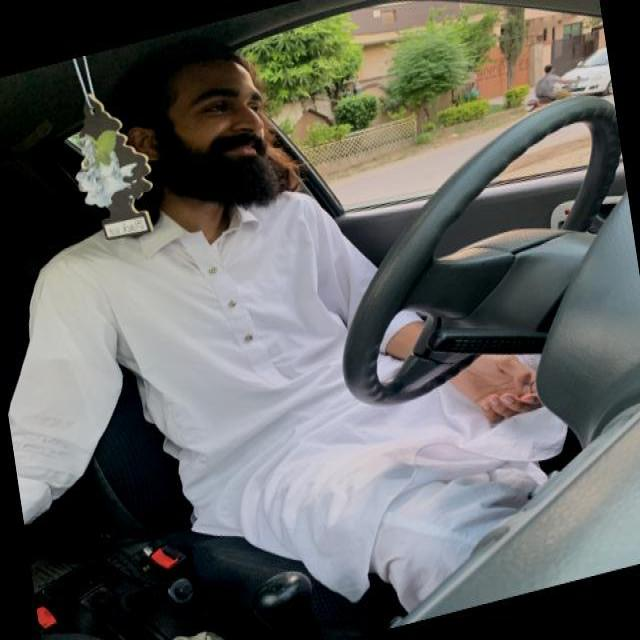no-seatbelt: (73, 211, 394, 567)
